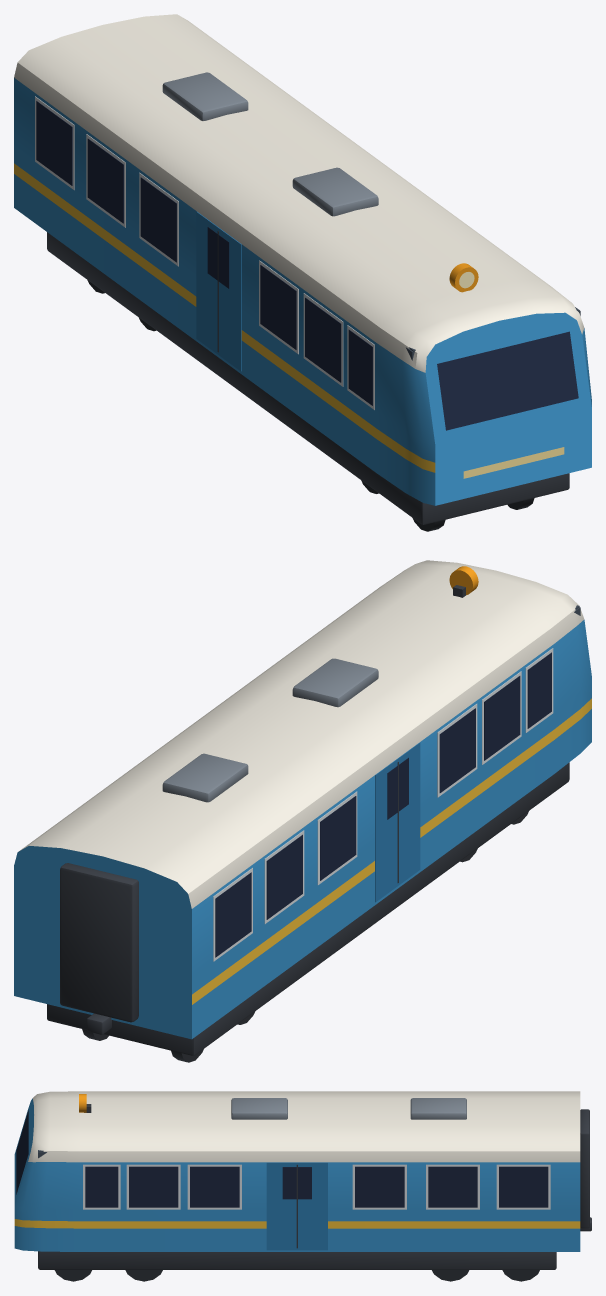
The model's file is train-proto.glb.
3 views of the same model, one above another, from view 1: azimuth 30°, elevation 25°; view 2: azimuth 150°, elevation 25°; view 3: azimuth 270°, elevation 25° (orthographic). The views are drawn at different scales.
Visible parts, largest first — view 1: train-proto; view 2: train-proto; view 3: train-proto.
Part boxes in pixels (x1,y1,x2,y2): train-proto: (14, 14, 591, 531); train-proto: (14, 560, 591, 1062); train-proto: (14, 1091, 591, 1281).
Size of the model in its own units: 3.04 by 3.98 by 12.26.
